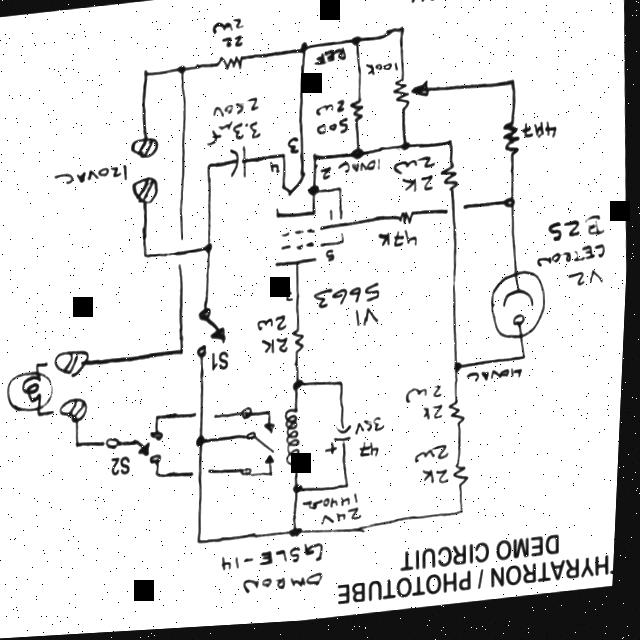capacitor: (222, 143, 254, 183), (329, 420, 361, 455)
inductor: (276, 396, 318, 481)
node: (349, 146, 373, 170), (292, 481, 312, 509), (308, 182, 328, 208), (195, 430, 213, 456), (502, 194, 521, 218), (290, 526, 310, 545), (450, 362, 468, 383), (294, 40, 312, 61), (204, 240, 218, 266), (176, 60, 192, 81), (398, 140, 415, 159), (350, 35, 367, 53)
resistor: (386, 71, 437, 120), (446, 450, 477, 500), (497, 121, 528, 171), (288, 317, 320, 365), (343, 83, 374, 132), (435, 156, 467, 203), (216, 44, 249, 83), (446, 397, 476, 439), (388, 209, 420, 240)
switch: (234, 392, 286, 488), (192, 303, 239, 372), (133, 424, 171, 473)
